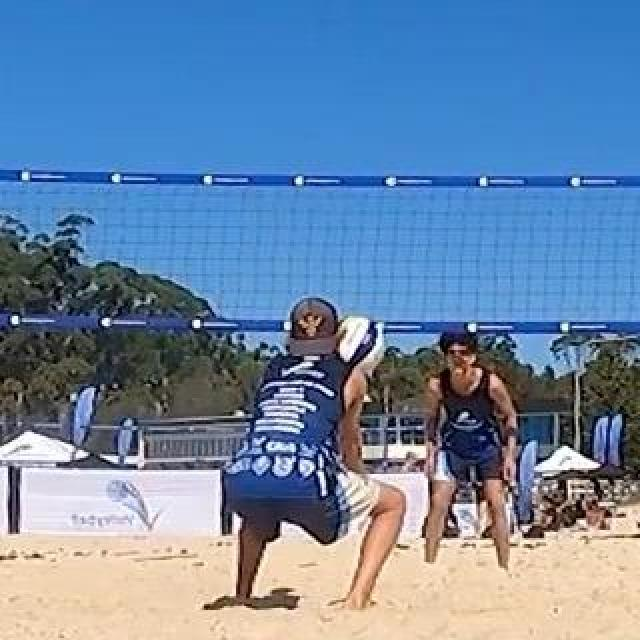volleyball: (332, 317, 386, 369)
